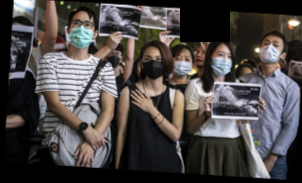with_mask: (68, 16, 94, 49), (140, 53, 165, 82), (209, 48, 233, 77), (257, 38, 282, 63), (172, 53, 192, 77), (103, 50, 120, 68)
